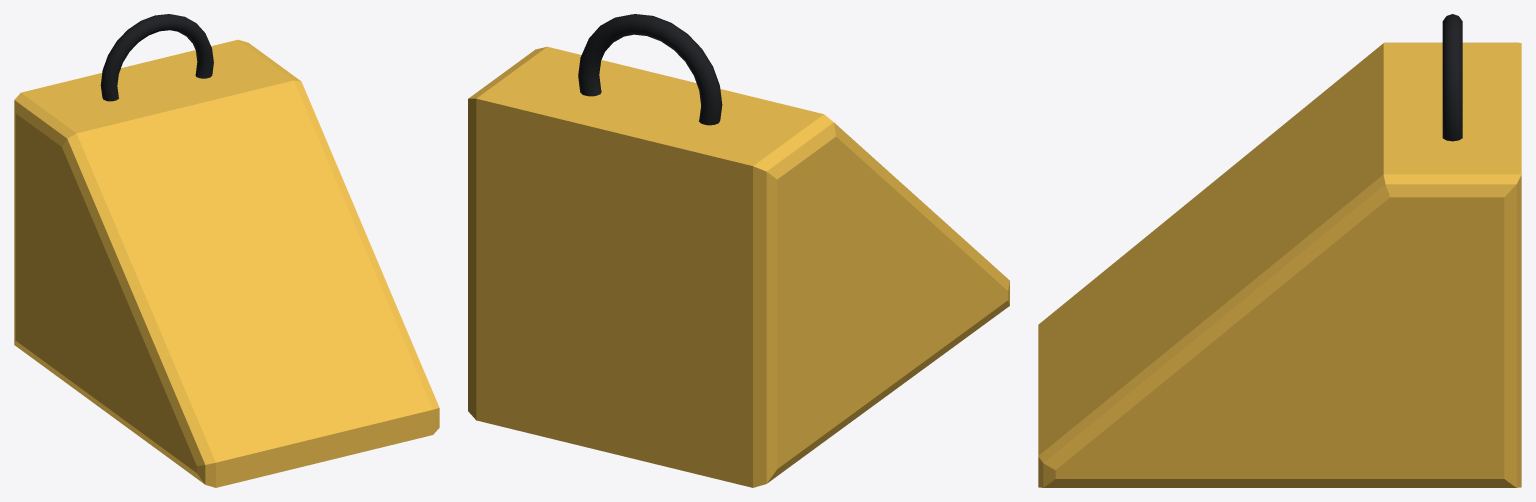
The model's file is toolkit--chock.glb.
3 renders of one model, left to right at view 1: azimuth 30°, elevation 25°; view 2: azimuth 150°, elevation 25°; view 3: azimuth 270°, elevation 25°, orthographic. The views are drawn at different scales.
Visible parts, largest first — view 1: chock:shell, handle; view 2: chock:shell, handle; view 3: chock:shell, handle.
Part boxes in pixels (x1,y1,x2,y2): chock:shell: [14, 39, 439, 487]; handle: [100, 14, 213, 101]; chock:shell: [468, 46, 1009, 487]; handle: [578, 14, 722, 125]; chock:shell: [1038, 42, 1521, 487]; handle: [1442, 14, 1462, 141].
Bounding box in the file's own units: 0.2 × 0.256 × 0.28.
